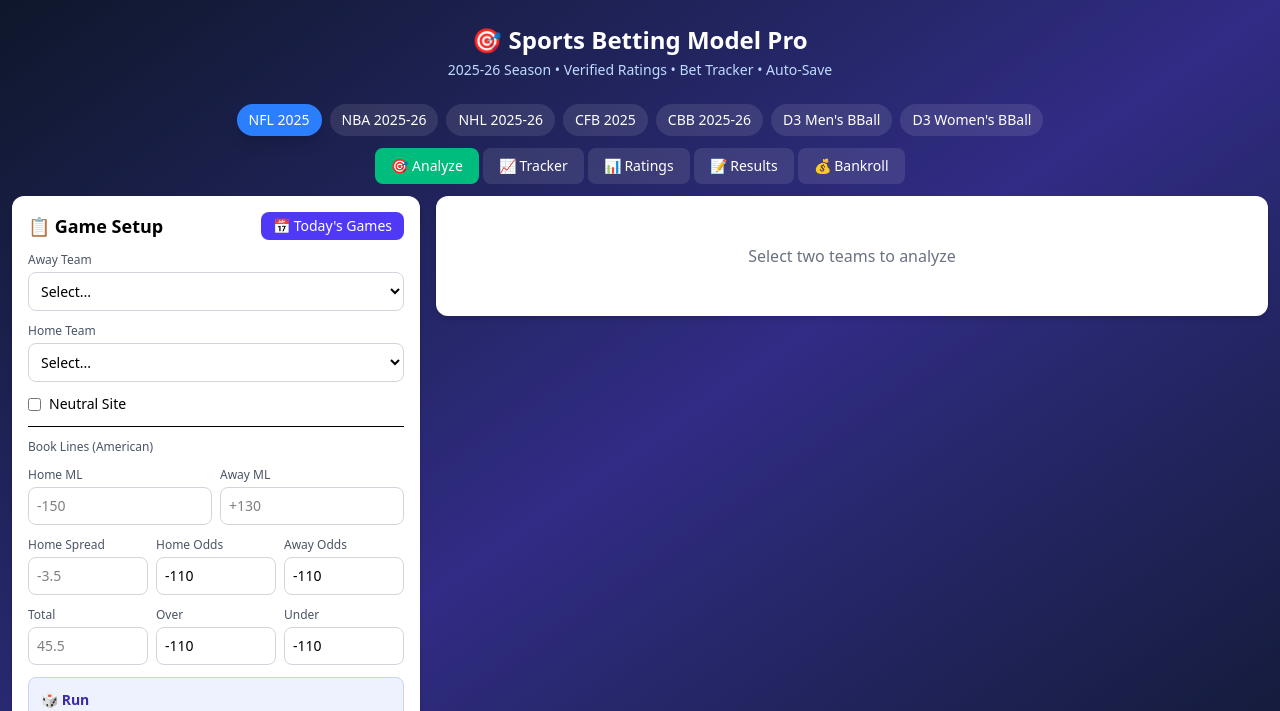
Test: App-level workflows › updates ratings and logs a manual result
Click the button "📝 Results" at (744, 166), box 694,148 -> 794,184
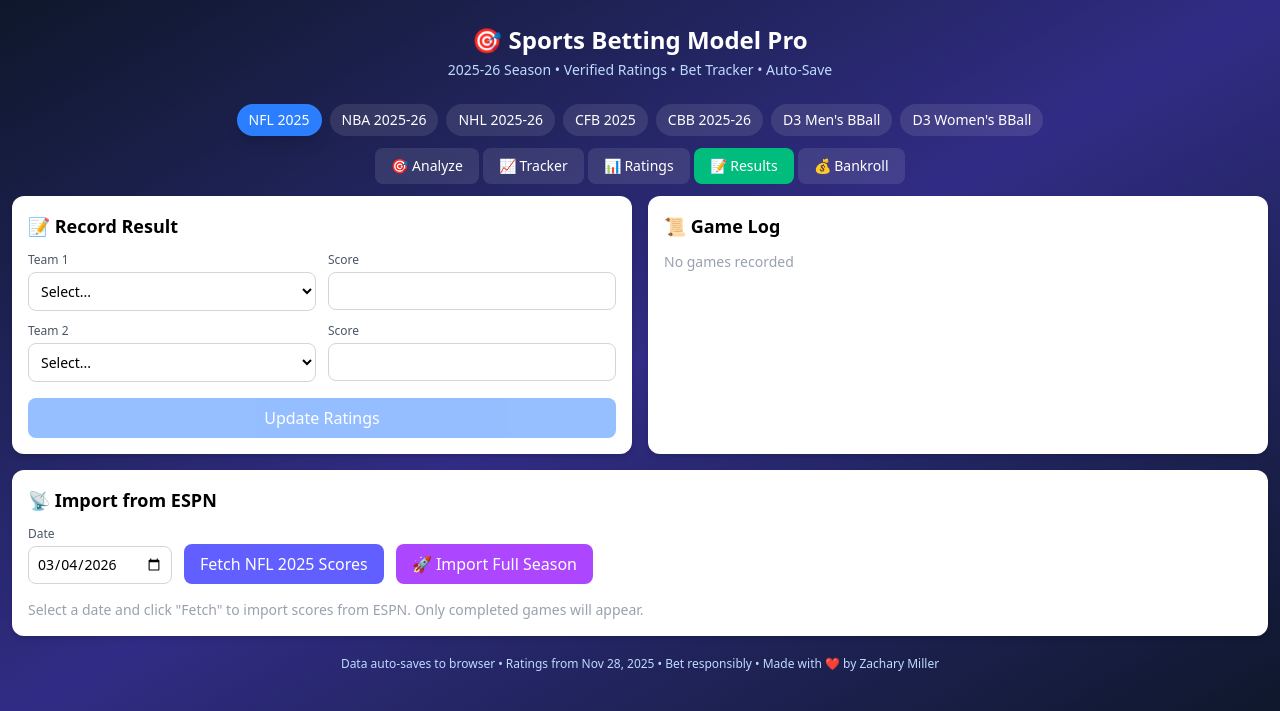
Select "New England Patriots" in the dropdown below "Team 1" at (172, 292), box 28,272 -> 316,311
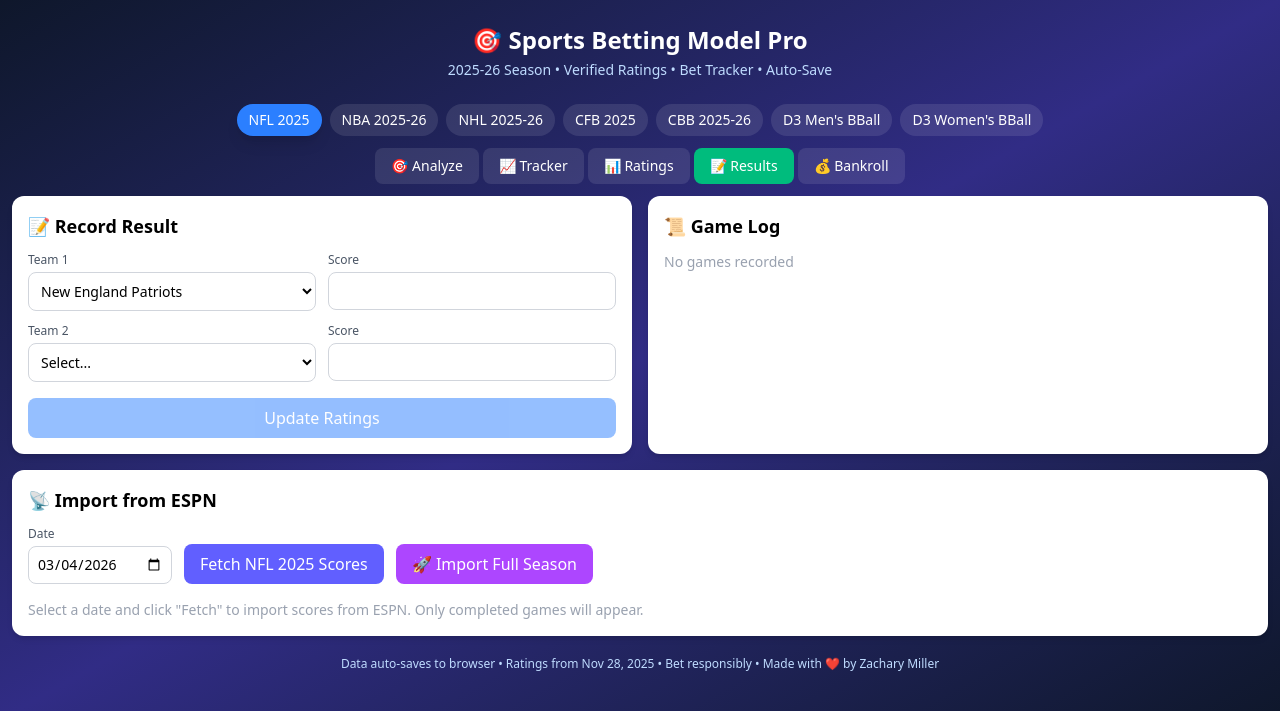
Select "Denver Broncos" in the dropdown below "Team 2" at (172, 362), box 28,343 -> 316,382
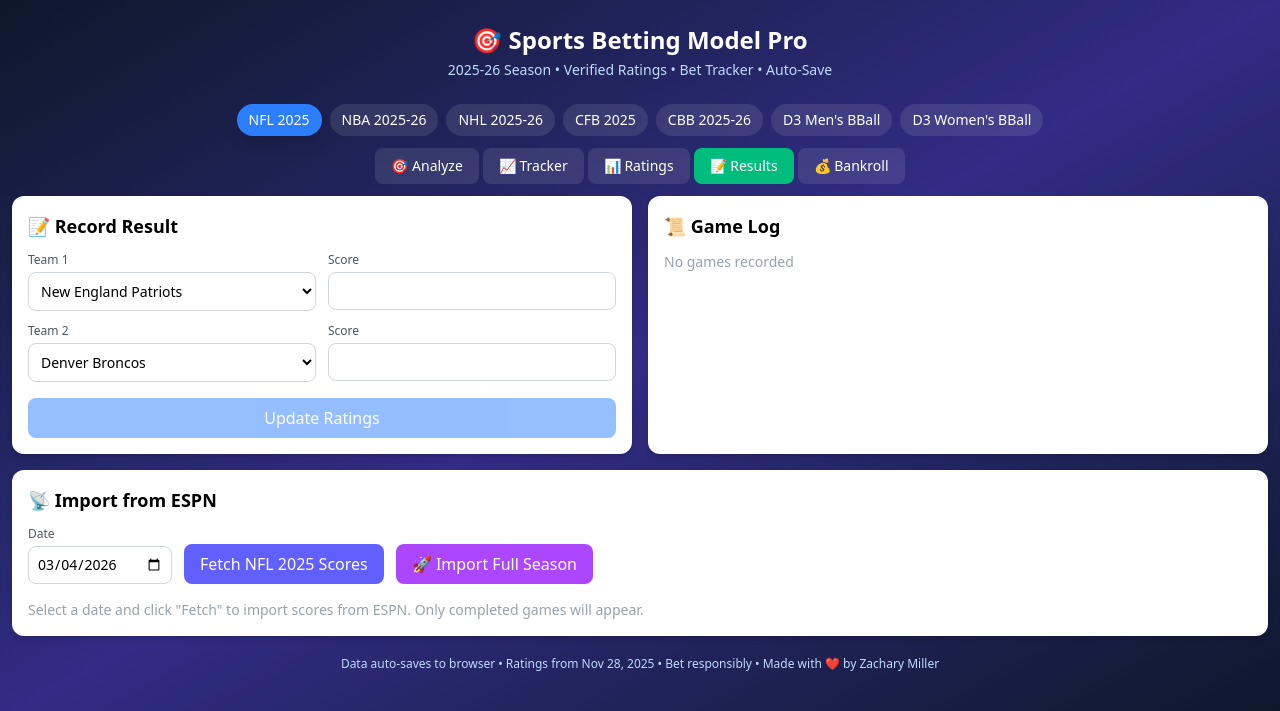
Type "27" into the 1st number field at (472, 291), box 328,272 -> 616,310
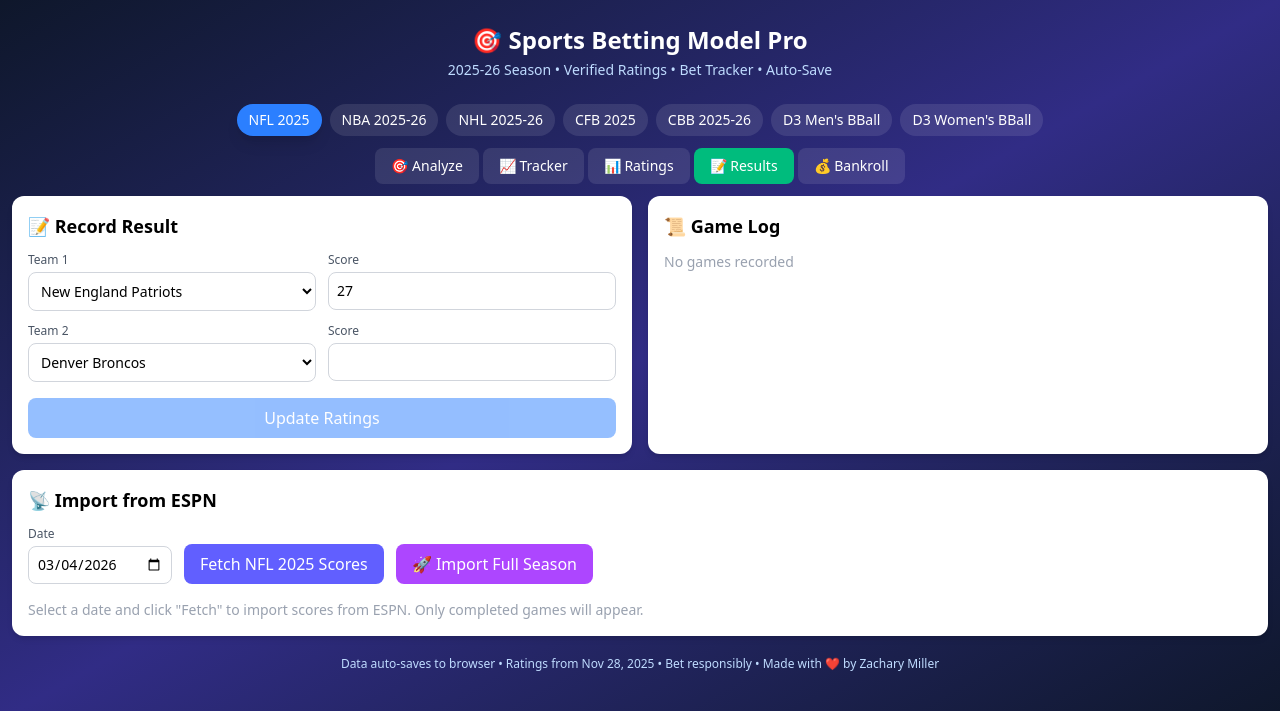
Type "20" into the 2nd number field at (472, 362), box 328,343 -> 616,381
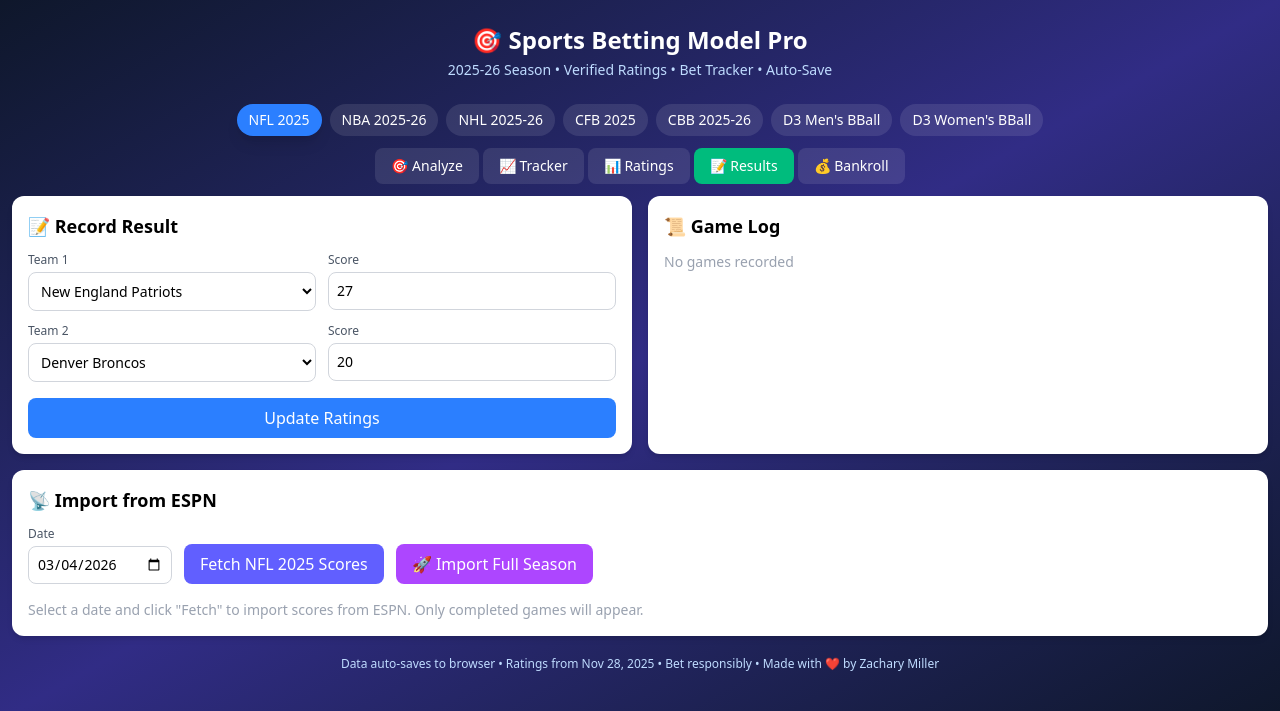
Click the button "Update Ratings" at (322, 418), box 28,398 -> 616,438
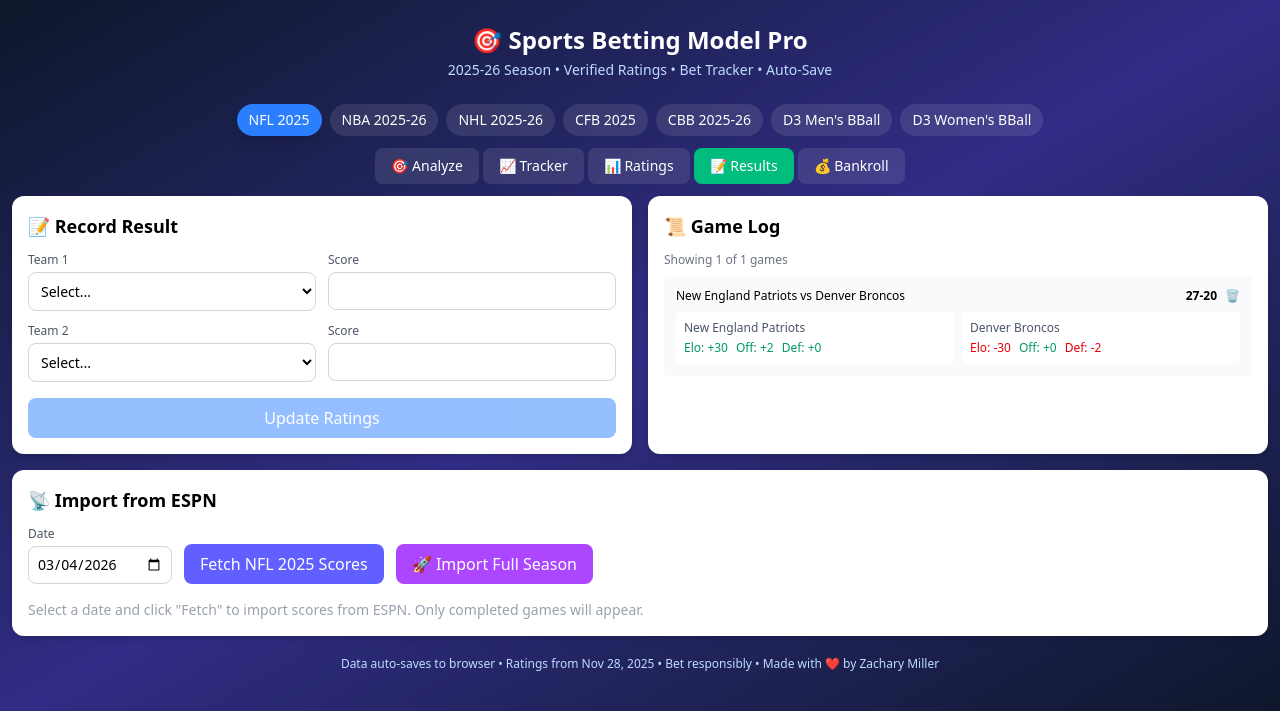
Expected: the text "New England Patriots vs Denver Broncos" is shown, 676,288 -> 905,304
